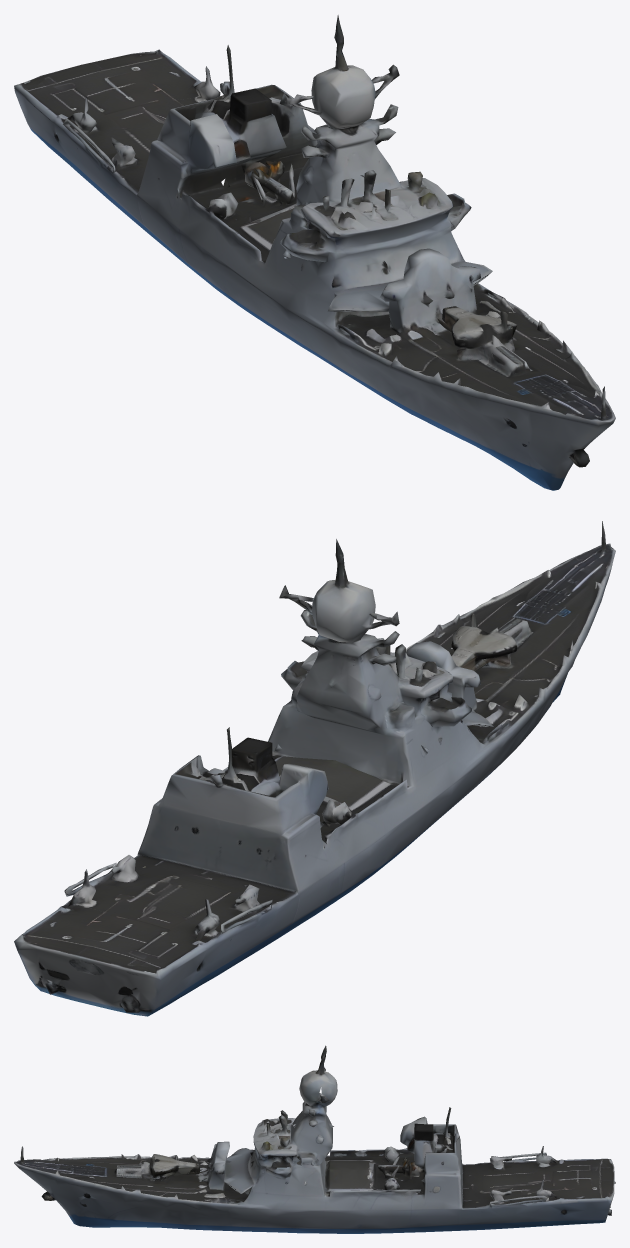
File: frigate.glb
3 renders of one model, top to bottom at view 1: azimuth 30°, elevation 25°; view 2: azimuth 150°, elevation 25°; view 3: azimuth 270°, elevation 25°, orthographic. The views are drawn at different scales.
Visible parts, largest first — view 1: body; view 2: body; view 3: body.
Part boxes in pixels (bbox=[...]): body: bbox=[14, 15, 615, 490]; body: bbox=[14, 521, 615, 1016]; body: bbox=[14, 1045, 615, 1233].
Bounding box in the file's own units: 2.82 × 4.75 × 14.2.
Materials: 1 (1 with a texture image).
